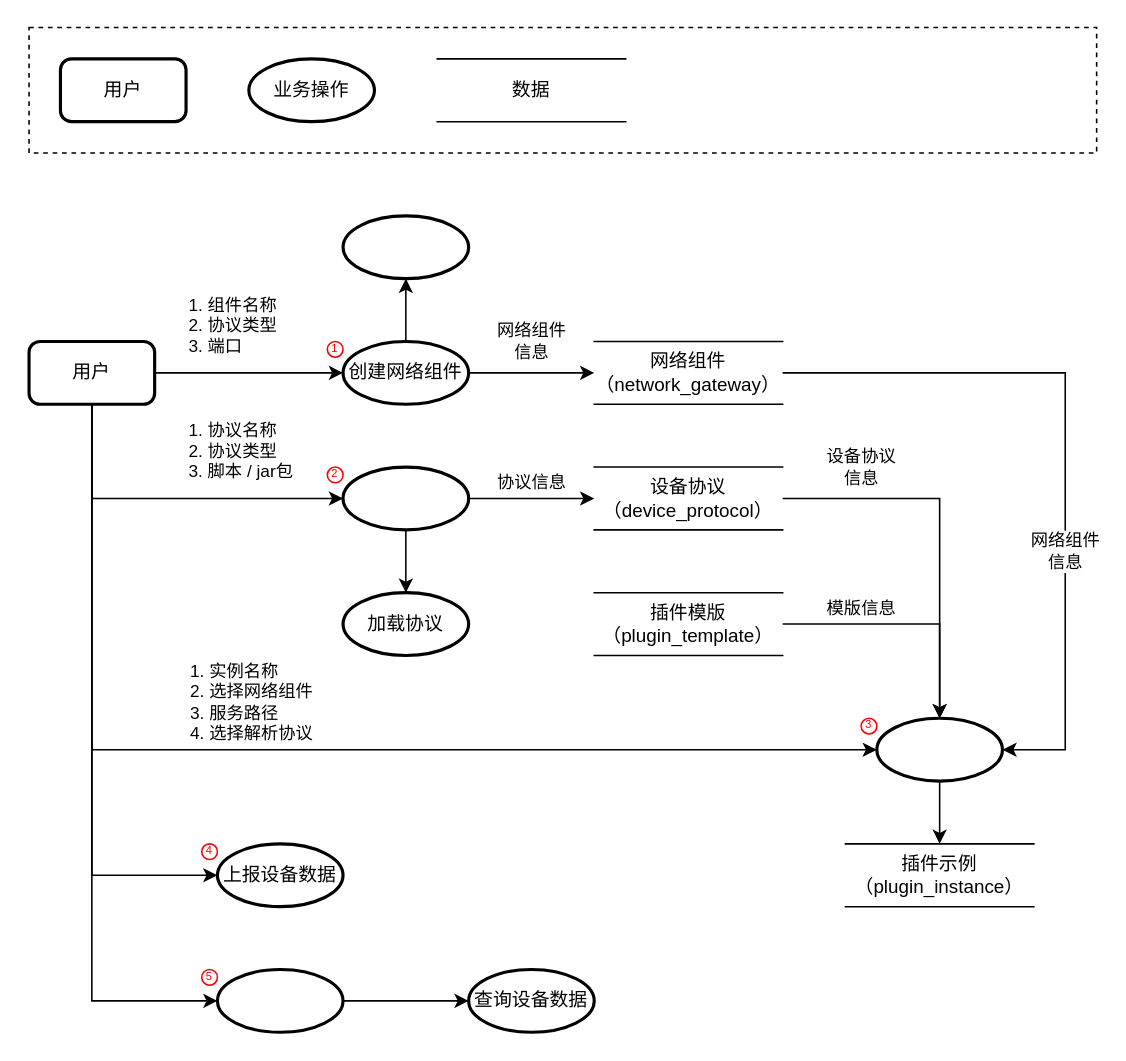
The diagram is 1126 pixels wide and 1061 high, and some of its shapes have lost their labels. Here are the shapes that lost their labels. From the top down, the centre of each, then its label:
At (x=405, y=246): "同步网关设备".
At (x=405, y=498): "新增协议".
At (x=938, y=749): "新增插件实例".
At (x=279, y=1000): "查询设备列表".
